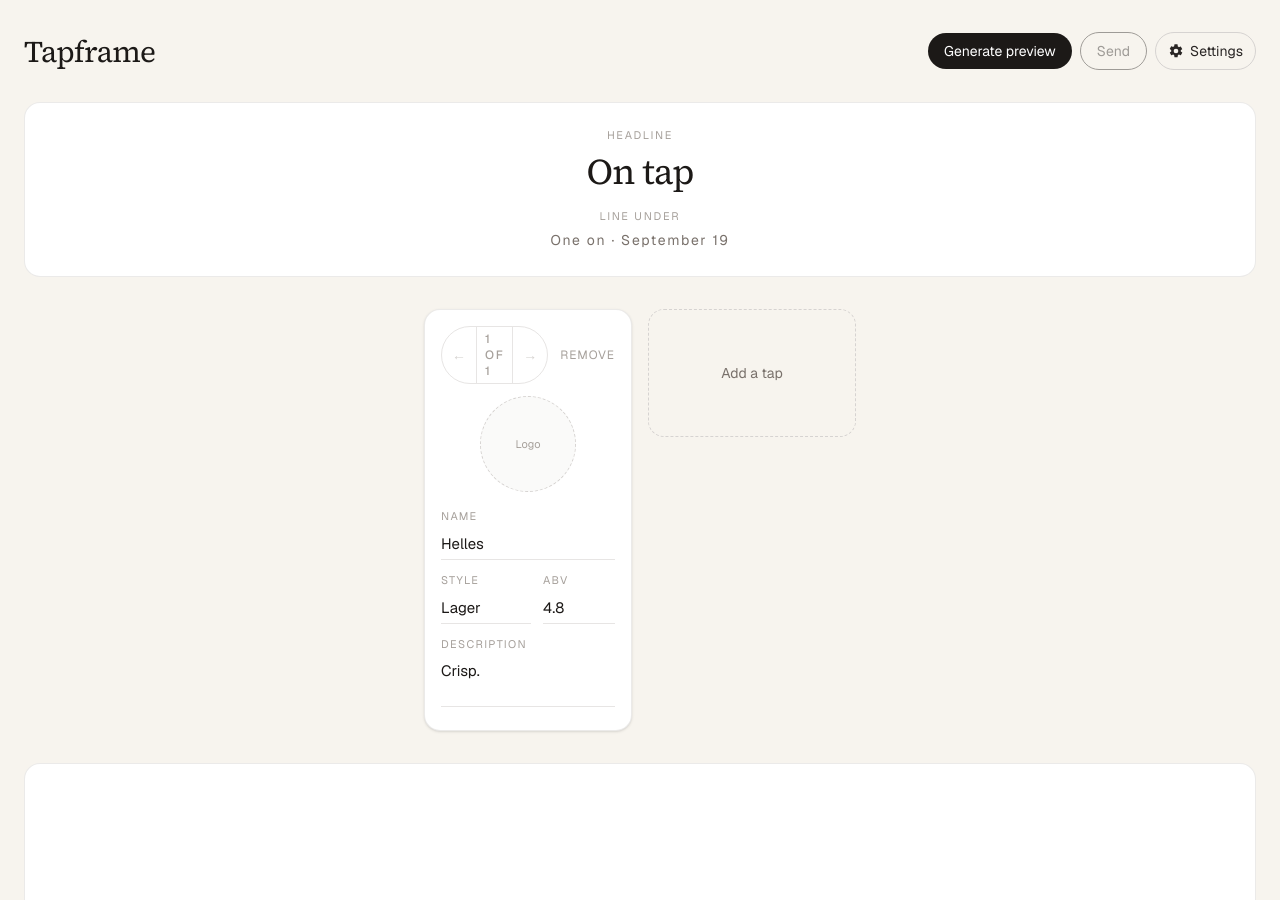
Test case: AdminApp › serializes autosaves so an older request cannot overwrite a newer edit
Type "First edit" into the field labelled "Headline" at (640, 172), box top-left (49, 152), bottom-right (1231, 192)
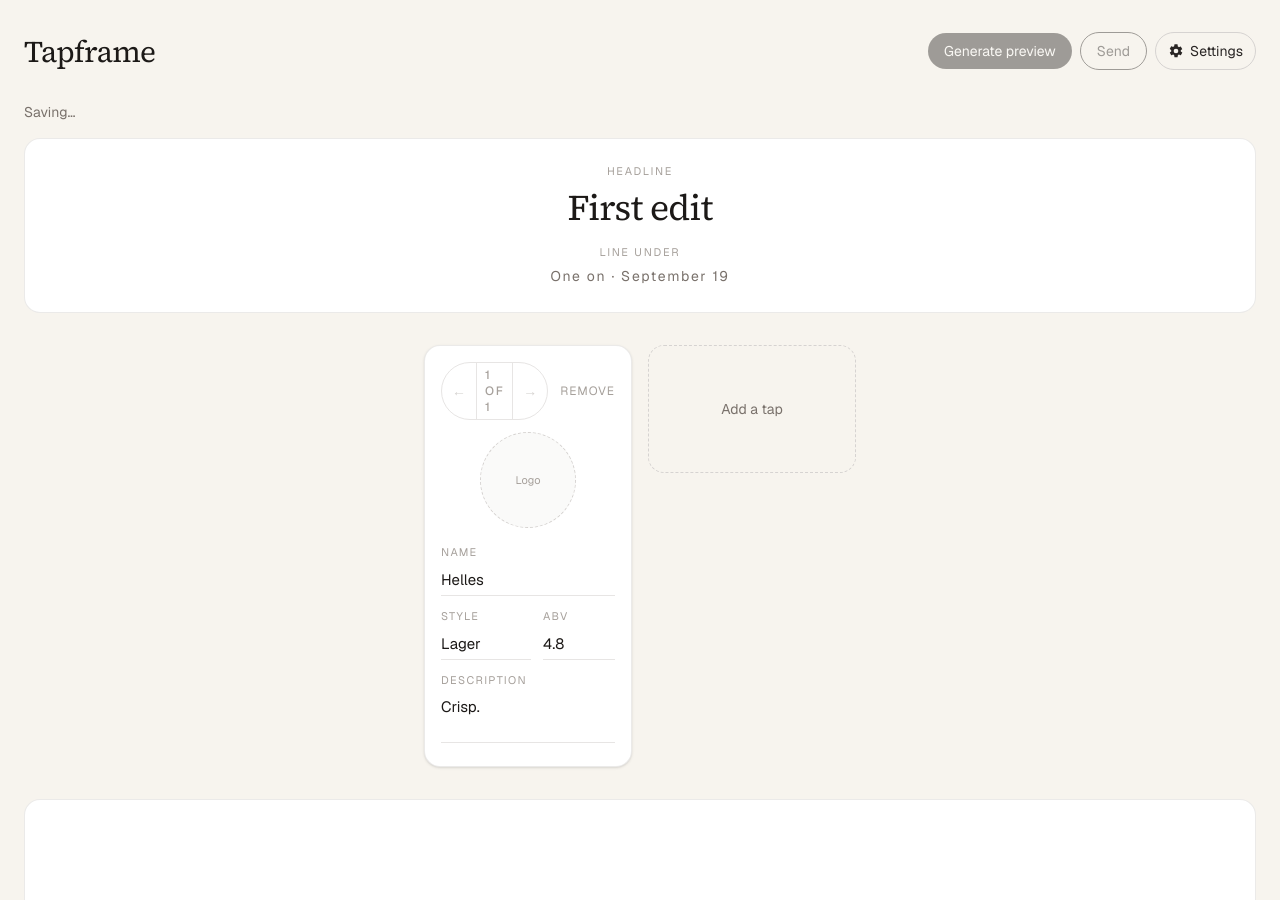
Replace the text in the field labelled "Headline" with "Newest edit" at (640, 208), box top-left (49, 188), bottom-right (1231, 228)
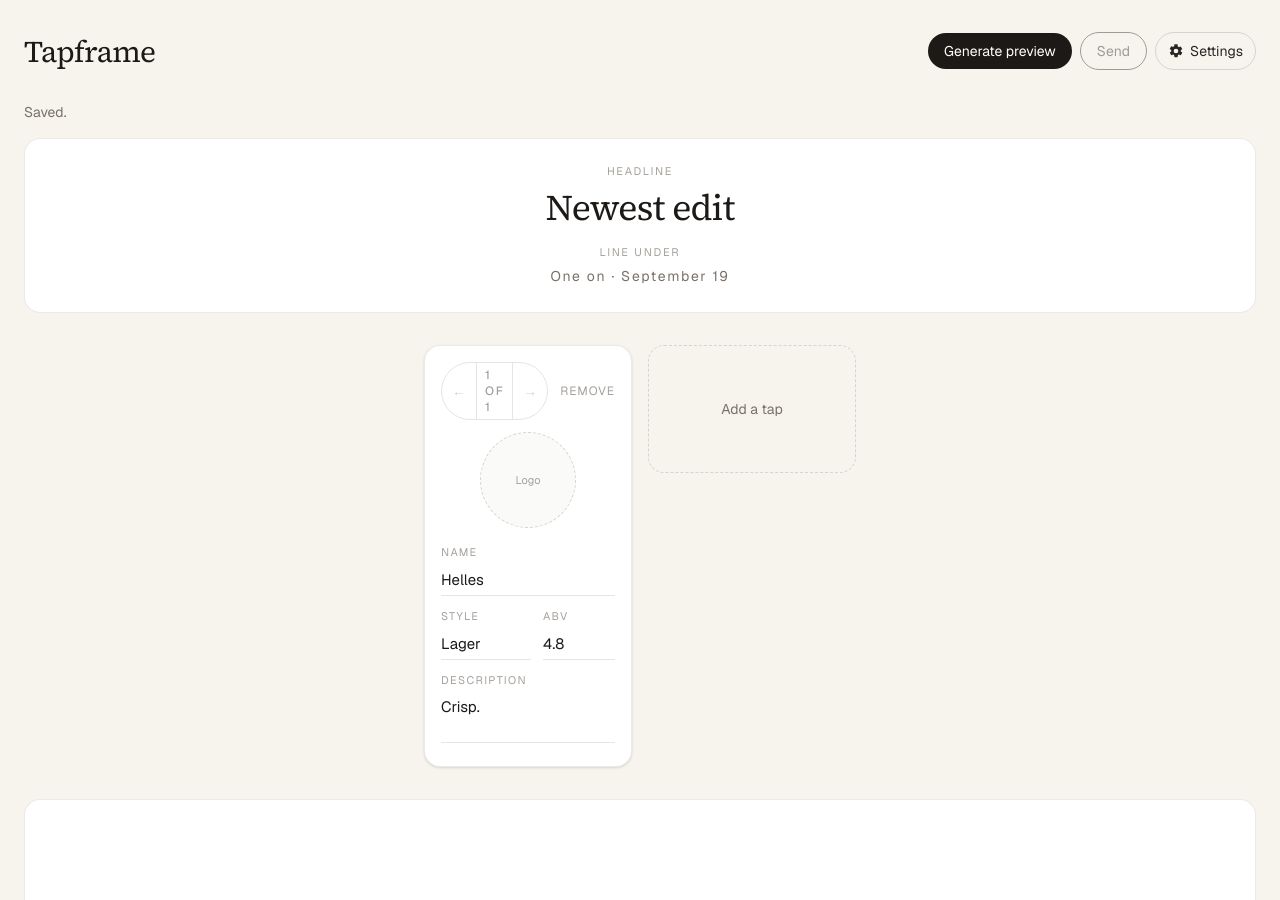
Check: the text "Saved." is shown, box top-left (24, 103), bottom-right (66, 121)
